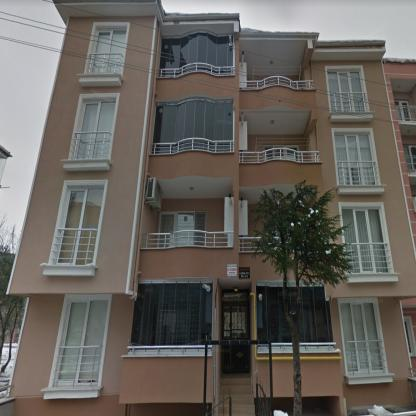door: (223, 306, 247, 337), (223, 346, 249, 374), (158, 212, 176, 247)
window: (130, 281, 212, 346), (52, 296, 109, 388), (150, 96, 233, 154), (55, 184, 103, 264), (340, 204, 392, 273), (339, 299, 385, 377), (159, 30, 233, 74), (74, 97, 115, 157), (299, 286, 336, 352), (257, 285, 292, 354), (335, 132, 376, 185), (87, 28, 126, 74), (328, 69, 366, 113), (176, 212, 206, 244), (257, 285, 268, 353), (395, 100, 411, 119), (403, 145, 415, 170)
